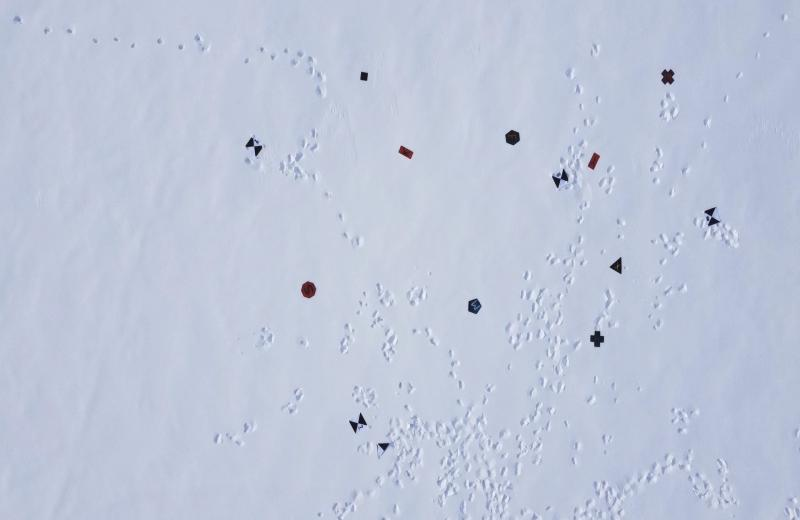Cross: (660, 69, 676, 86), (590, 329, 604, 348)
Hexagon: (504, 129, 520, 147)
Octagon: (300, 279, 317, 299)
Pentagon: (467, 298, 483, 316)
Rectangle: (397, 144, 414, 160), (587, 152, 601, 171)
Square: (359, 71, 368, 82)
Triangle: (609, 256, 625, 275)
